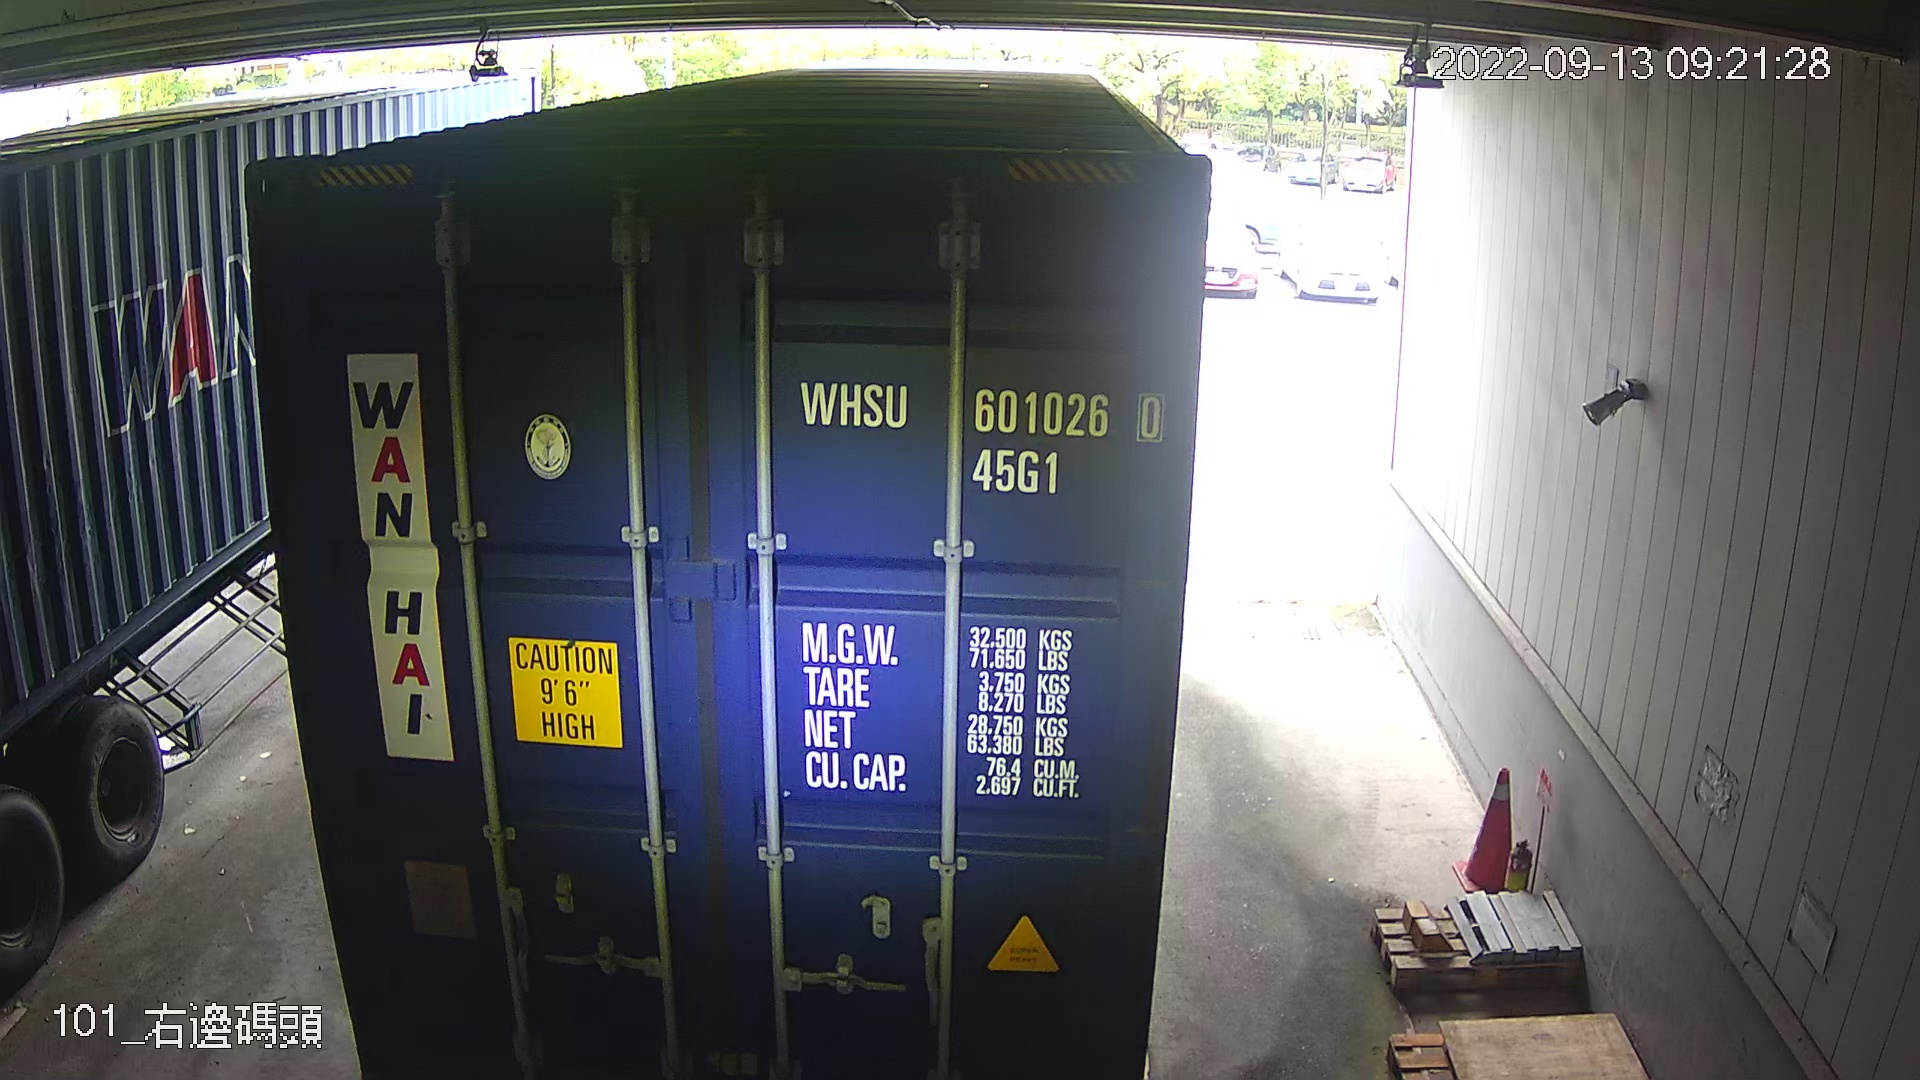container: (787, 360, 1172, 505)
